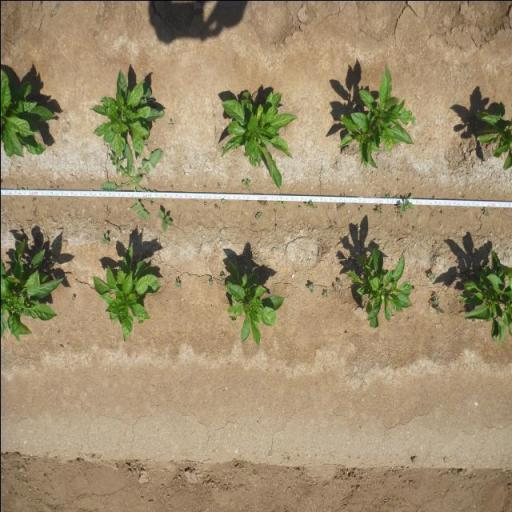plant: (333, 61, 416, 172), (215, 83, 301, 190), (0, 234, 65, 345), (90, 248, 162, 347), (85, 62, 148, 175), (342, 245, 414, 329), (222, 258, 287, 350), (456, 247, 512, 350), (0, 63, 58, 162), (471, 96, 512, 174)
weed: (97, 146, 164, 223), (158, 207, 174, 234), (399, 194, 415, 212), (430, 294, 444, 314), (392, 203, 400, 219), (100, 231, 109, 245), (334, 202, 348, 210), (426, 271, 436, 282), (305, 283, 315, 293), (304, 199, 314, 209), (241, 178, 251, 188), (373, 202, 381, 214), (480, 206, 489, 216), (253, 211, 263, 220), (218, 271, 225, 281), (174, 277, 180, 288), (320, 290, 328, 298), (257, 200, 267, 206), (278, 199, 286, 206), (167, 117, 174, 125), (336, 278, 342, 286), (330, 283, 336, 291), (212, 202, 218, 209), (208, 278, 213, 286), (219, 198, 225, 204), (70, 296, 76, 300)
